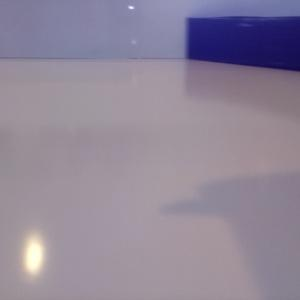zone: (186, 16, 300, 72)
